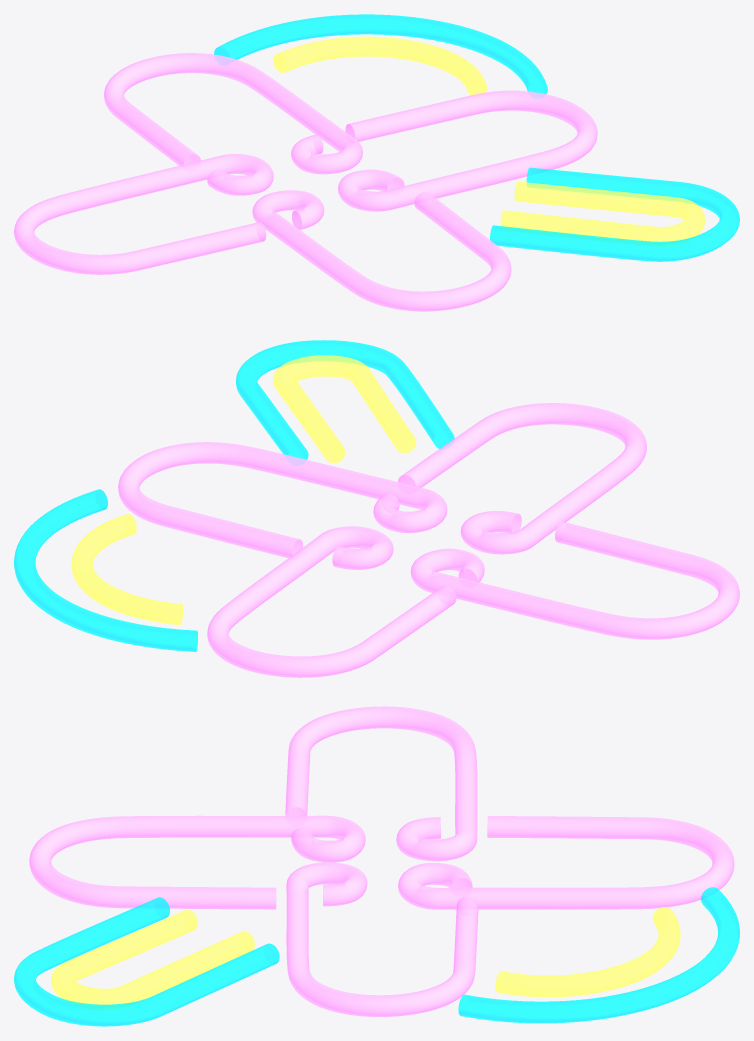
File: relpha_neon.glb
3 views of the same model, one above another, from view 1: azimuth 30°, elevation 25°; view 2: azimuth 150°, elevation 25°; view 3: azimuth 270°, elevation 25° (orthographic). The views are drawn at different scales.
Parts seen in each view (by area): view 1: BezierCurve, BezierCurve.003, BezierCurve.001, BezierCurve.002, BezierCurve.006, BezierCurve.007, BezierCurve.004, BezierCurve.005; view 2: BezierCurve.003, BezierCurve, BezierCurve.002, BezierCurve.001, BezierCurve.006, BezierCurve.004, BezierCurve.007, BezierCurve.005; view 3: BezierCurve.001, BezierCurve.002, BezierCurve.003, BezierCurve, BezierCurve.006, BezierCurve.007, BezierCurve.004, BezierCurve.005.
Part boxes in pixels (left/top/right/bottom): BezierCurve: left=14, top=154, right=273, bottom=274; BezierCurve.003: left=338, top=90, right=597, bottom=211; BezierCurve.001: left=252, top=190, right=511, bottom=311; BezierCurve.002: left=104, top=53, right=362, bottom=174; BezierCurve.006: left=490, top=167, right=739, bottom=261; BezierCurve.007: left=500, top=181, right=705, bottom=246; BezierCurve.004: left=214, top=14, right=547, bottom=94; BezierCurve.005: left=273, top=36, right=486, bottom=95; BezierCurve.003: left=118, top=442, right=447, bottom=558; BezierCurve: left=410, top=521, right=739, bottom=639; BezierCurve.002: left=207, top=526, right=456, bottom=677; BezierCurve.001: left=398, top=403, right=646, bottom=554; BezierCurve.006: left=236, top=340, right=454, bottom=459; BezierCurve.004: left=14, top=489, right=197, bottom=651; BezierCurve.007: left=273, top=355, right=416, bottom=463; BezierCurve.005: left=71, top=514, right=183, bottom=625; BezierCurve.001: left=29, top=815, right=365, bottom=909; BezierCurve.002: left=398, top=816, right=734, bottom=909; BezierCurve.003: left=286, top=862, right=478, bottom=1016; BezierCurve: left=285, top=706, right=477, bottom=861; BezierCurve.006: left=14, top=897, right=279, bottom=1026; BezierCurve.007: left=51, top=909, right=254, bottom=1009; BezierCurve.004: left=458, top=887, right=739, bottom=1023; BezierCurve.005: left=495, top=907, right=680, bottom=997.
Bounding box in the file's own units: 2.64 × 0.08 × 2.63.
